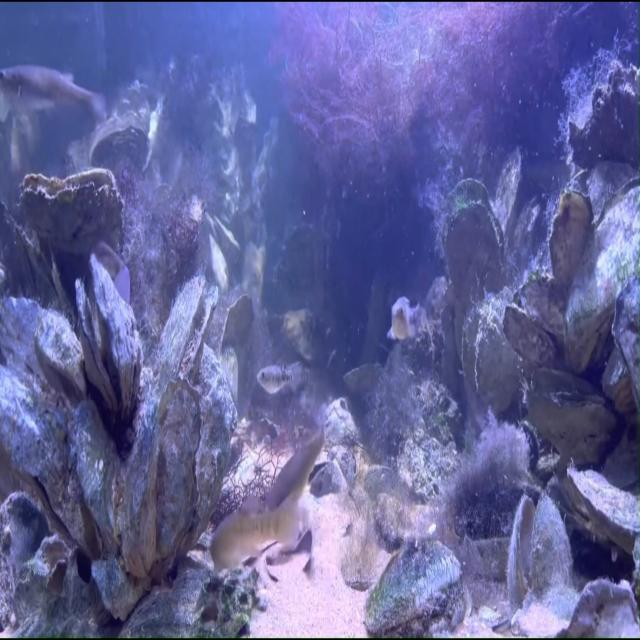Oyster-Closed: (0, 364, 85, 544), (564, 184, 640, 373), (365, 540, 465, 638), (192, 344, 238, 540), (561, 42, 640, 151), (156, 384, 200, 561), (119, 391, 159, 578), (0, 491, 49, 630), (155, 276, 219, 382), (568, 464, 640, 553), (504, 276, 566, 378), (35, 309, 86, 404), (560, 578, 640, 638), (0, 298, 41, 374), (508, 196, 546, 260), (208, 237, 231, 290)
Oyster-Open: (75, 253, 142, 418), (528, 369, 616, 469), (21, 169, 122, 256), (442, 178, 505, 309), (508, 493, 572, 606), (462, 296, 520, 413), (550, 191, 592, 289), (220, 293, 254, 404), (90, 111, 149, 173)
